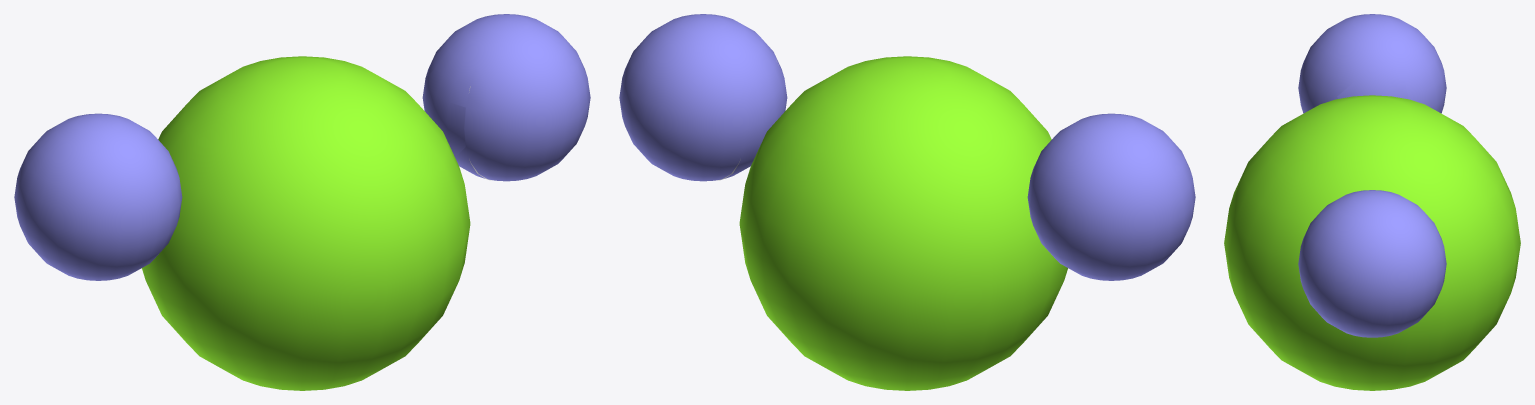
Rendered from Water.fbx.
3 views of the same model, side by side, from view 1: azimuth 30°, elevation 25°; view 2: azimuth 150°, elevation 25°; view 3: azimuth 270°, elevation 25° (orthographic). The views are drawn at different scales.
Parts seen in each view (by area): view 1: Model; view 2: Model; view 3: Model.
Boxes of the visible parts, box(x1,y1,x2,y2) form: Model: box(14, 14, 590, 390); Model: box(619, 14, 1195, 390); Model: box(1224, 14, 1520, 390).
Bounding box in the file's own units: 3.81 × 2 × 2.
